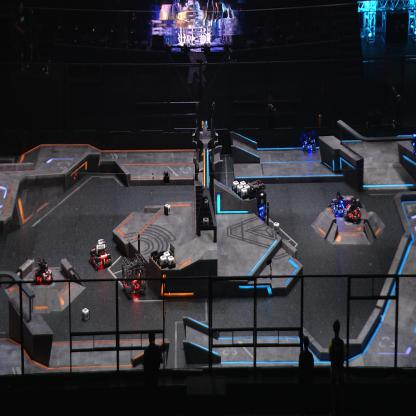car: (122, 251, 147, 297), (246, 180, 267, 222), (90, 235, 110, 268), (33, 256, 54, 284), (343, 195, 361, 223), (301, 131, 317, 154), (330, 191, 345, 215)
